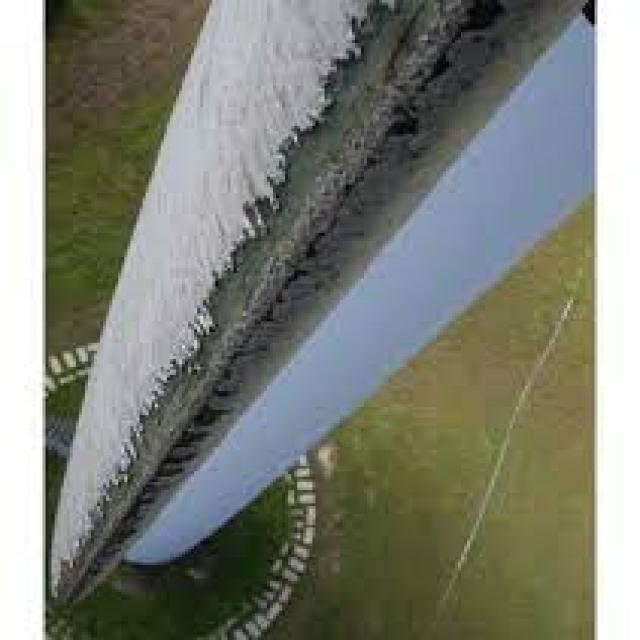Erosion: (43, 3, 570, 603)
